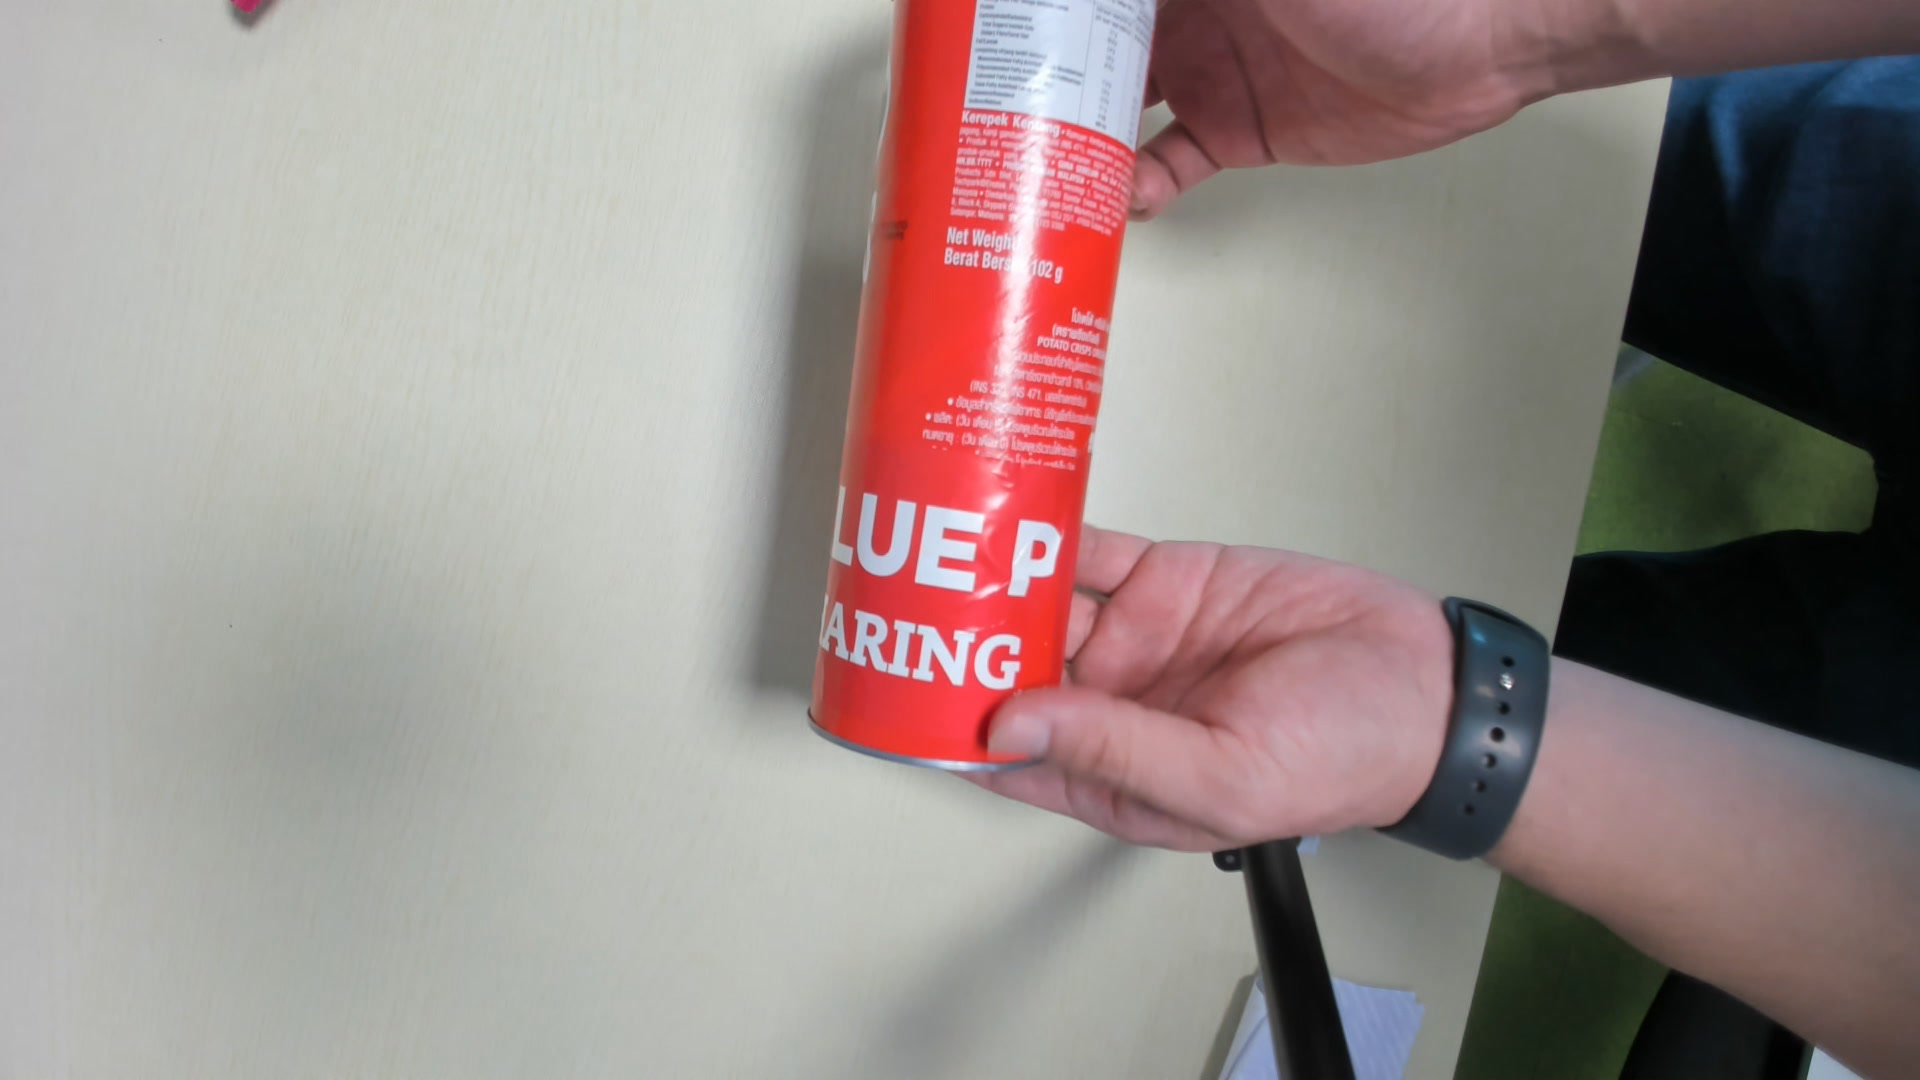PotatoChipsKeropok_100-199g_NonHalal_NonHealthy: (808, 7, 1156, 779)
